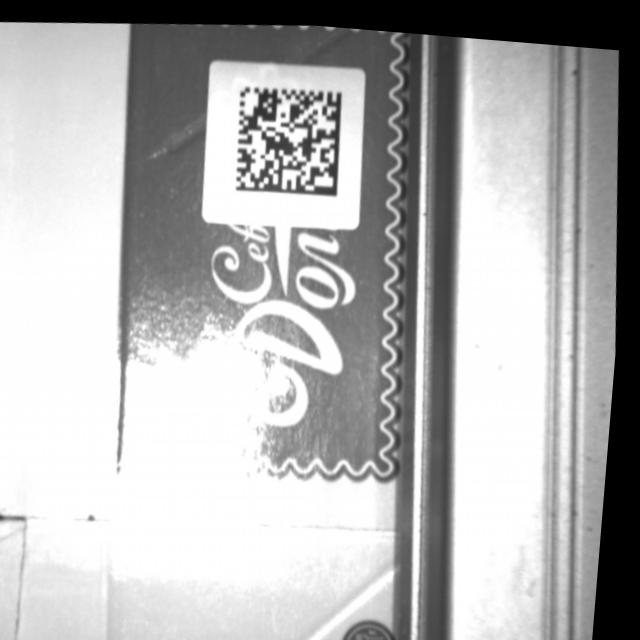datamatrix: (232, 75, 351, 199)
